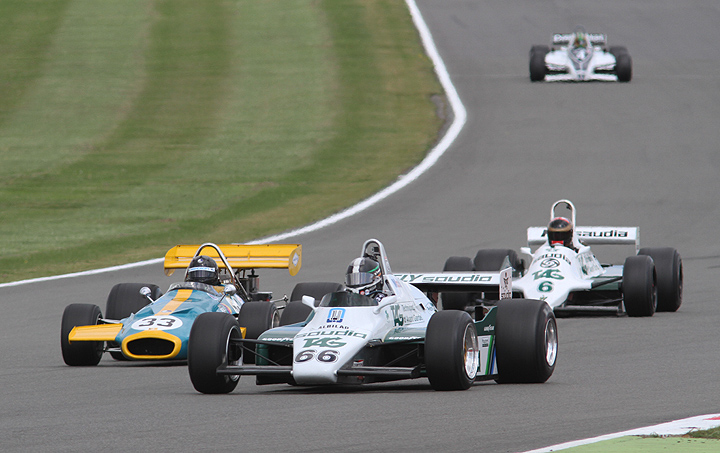f1_car: (184, 231, 563, 407), (56, 237, 312, 375), (430, 195, 692, 321), (522, 25, 639, 90)
